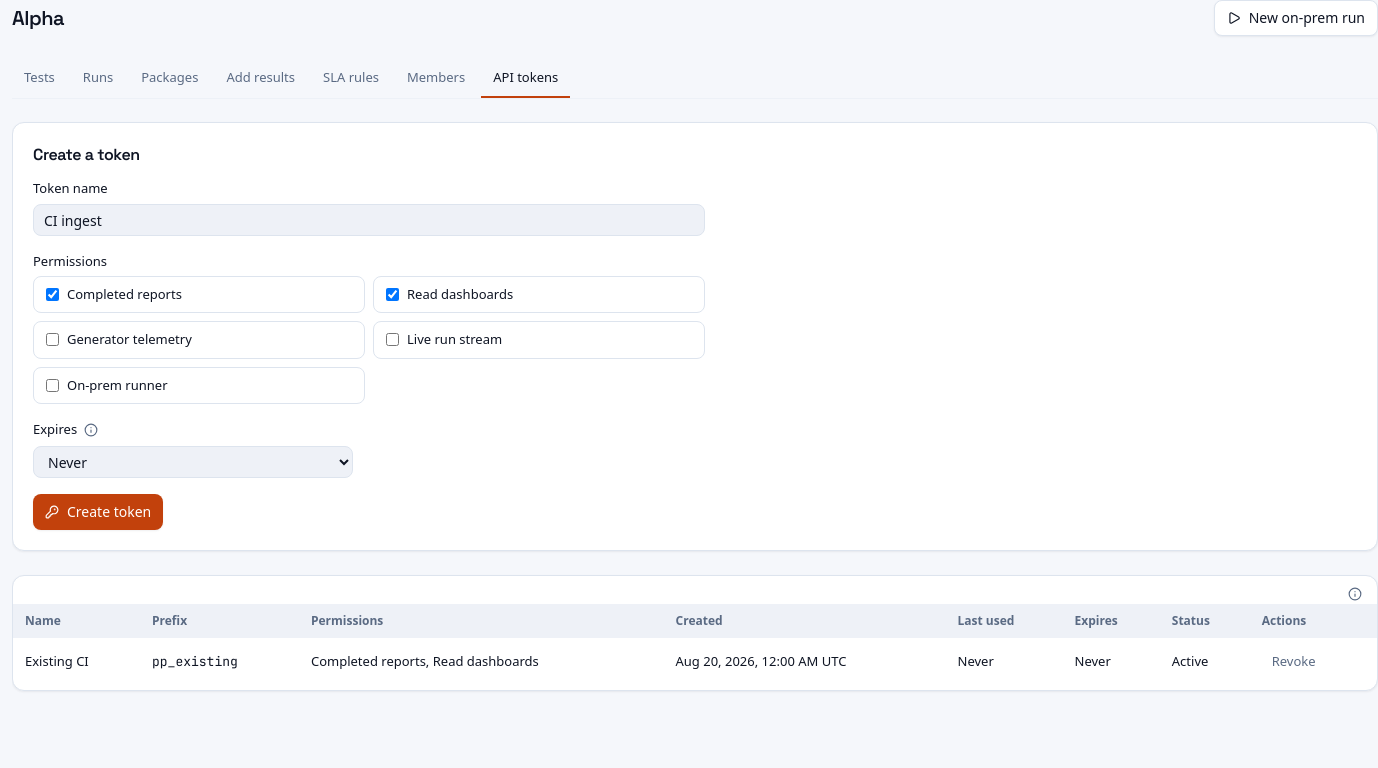
Test case: ProjectAccess › does not revoke on the first click, and can be cancelled
Expected: the text "Existing CI" is shown, [13,638,140,686]
Click the button "Revoke": coordinates (1294, 662) [1262,646,1326,678]
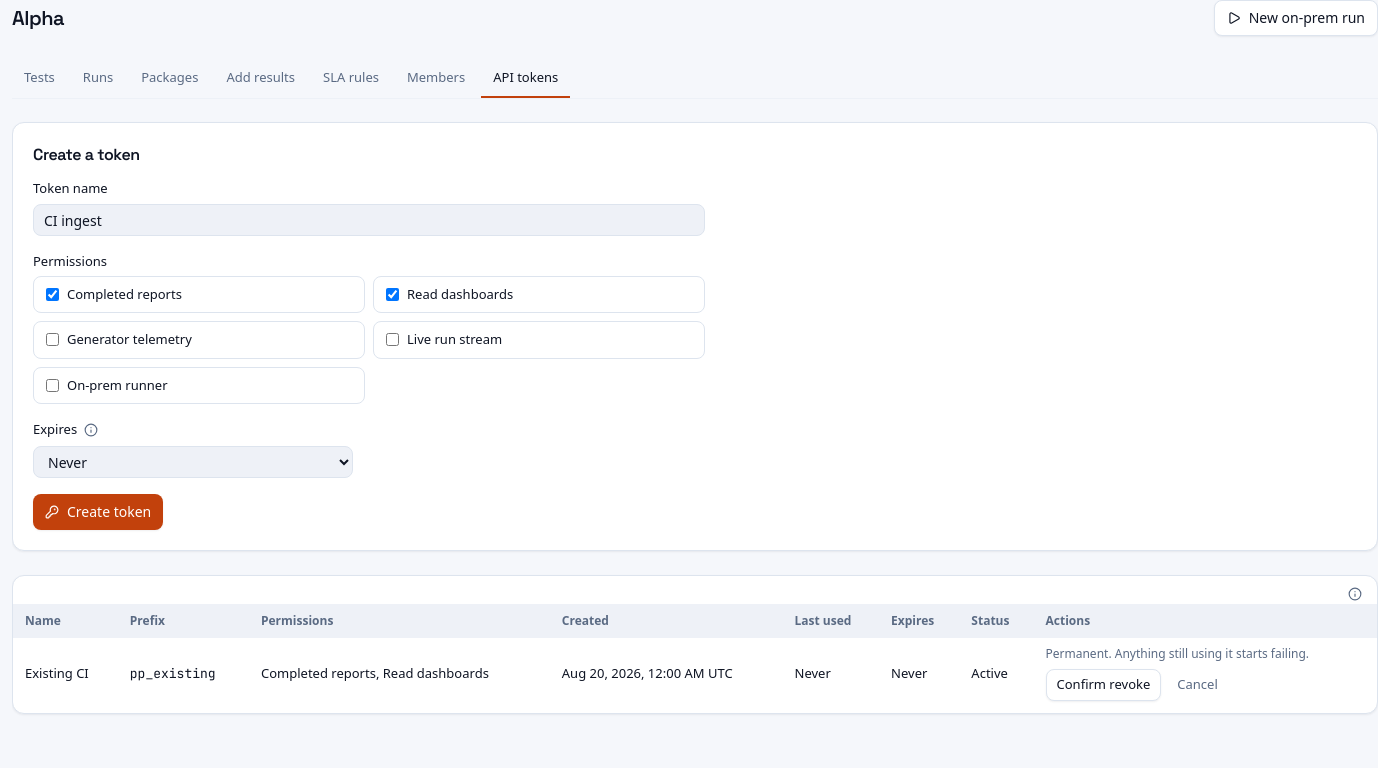
Click the button "Cancel": coordinates (1198, 684) [1167,668,1228,700]
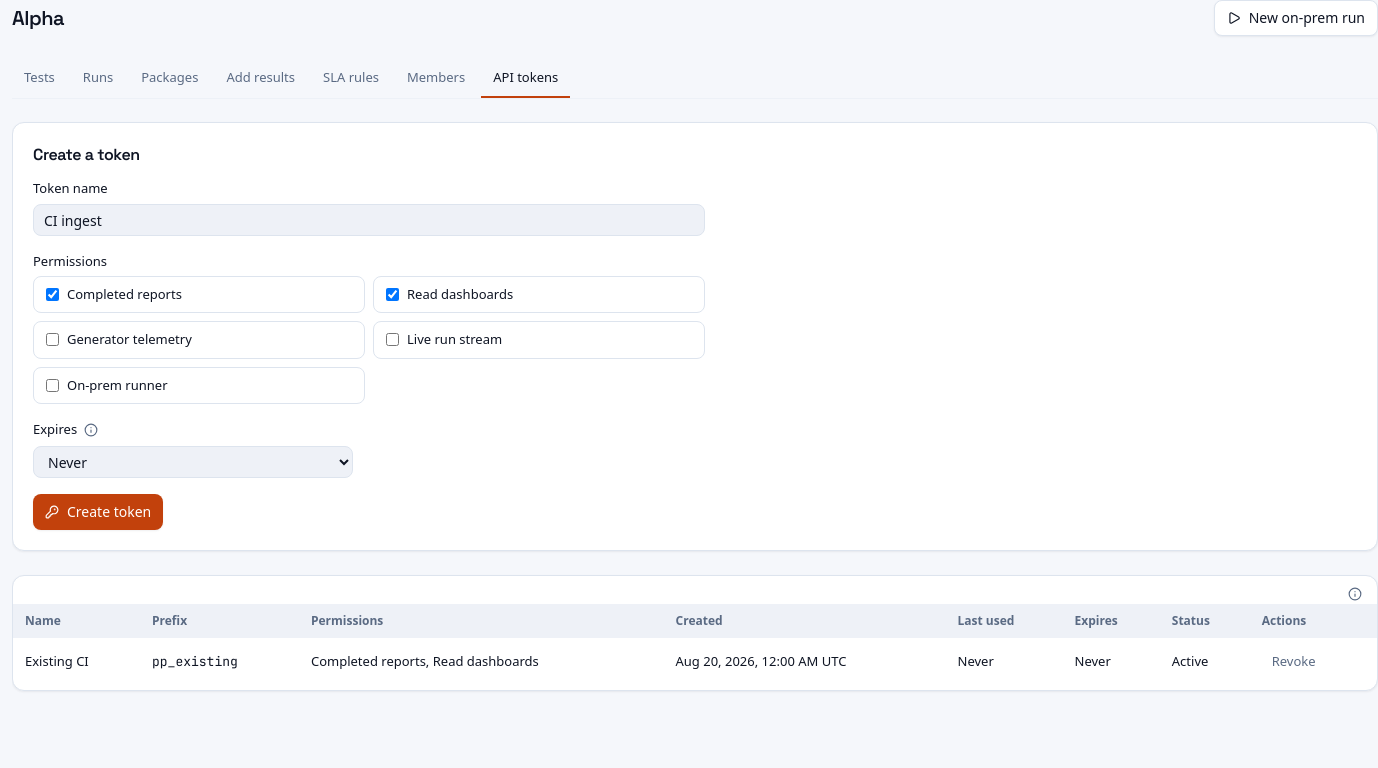
Expected: the button "Revoke" is shown, [1262,646,1326,678]
Expected: the button "Confirm revoke" is gone
